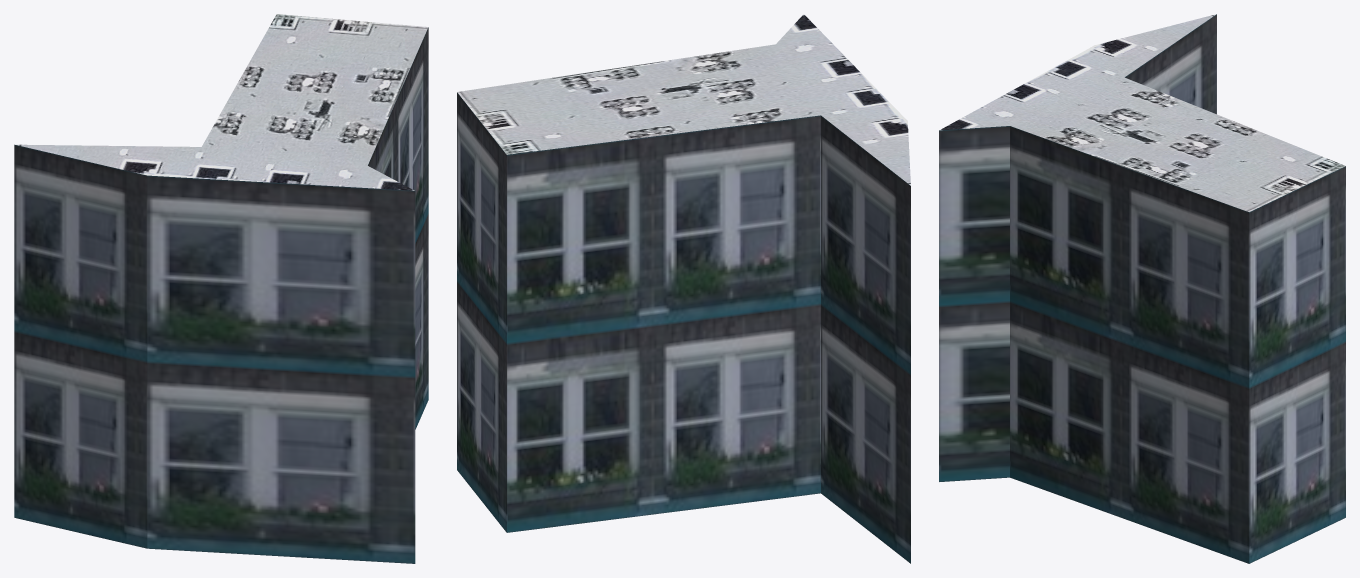
The model's file is ResTex__3744.fbx.
The picture shows the model from 3 angles, left to right: view 1: azimuth 30°, elevation 25°; view 2: azimuth 150°, elevation 25°; view 3: azimuth 270°, elevation 25°; orthographic projection. The views are drawn at different scales.
Parts seen in each view (by area): view 1: CityEngineMaterial_11_m, CityEngineMaterial_4_m; view 2: CityEngineMaterial_11_m, CityEngineMaterial_4_m; view 3: CityEngineMaterial_11_m, CityEngineMaterial_4_m.
Part boxes in pixels (x1,y1,x2,y2): CityEngineMaterial_11_m: (14, 27, 428, 563); CityEngineMaterial_4_m: (15, 14, 428, 190); CityEngineMaterial_11_m: (457, 92, 910, 563); CityEngineMaterial_4_m: (457, 14, 910, 185); CityEngineMaterial_11_m: (939, 14, 1345, 563); CityEngineMaterial_4_m: (940, 14, 1345, 211).
Size of the model in its own units: 7.25 by 6 by 6.29.
Materials: 2 (2 with a texture image).
